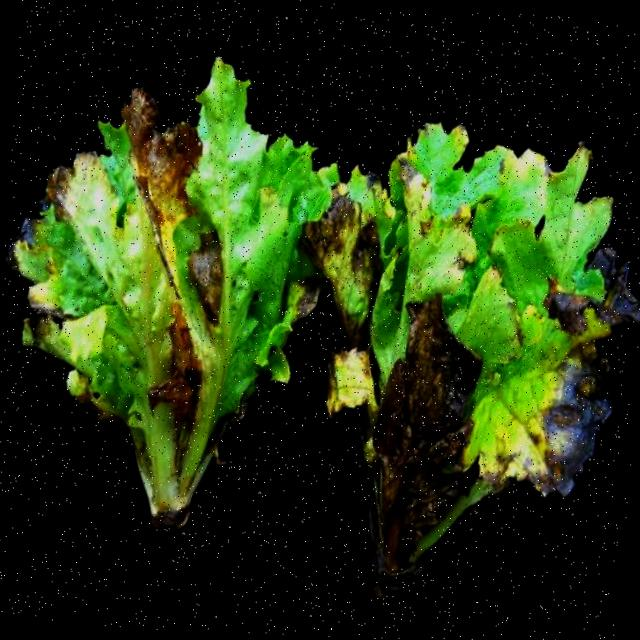Downy_mildew: (264, 90, 640, 640), (0, 10, 365, 576), (0, 10, 22, 552)
